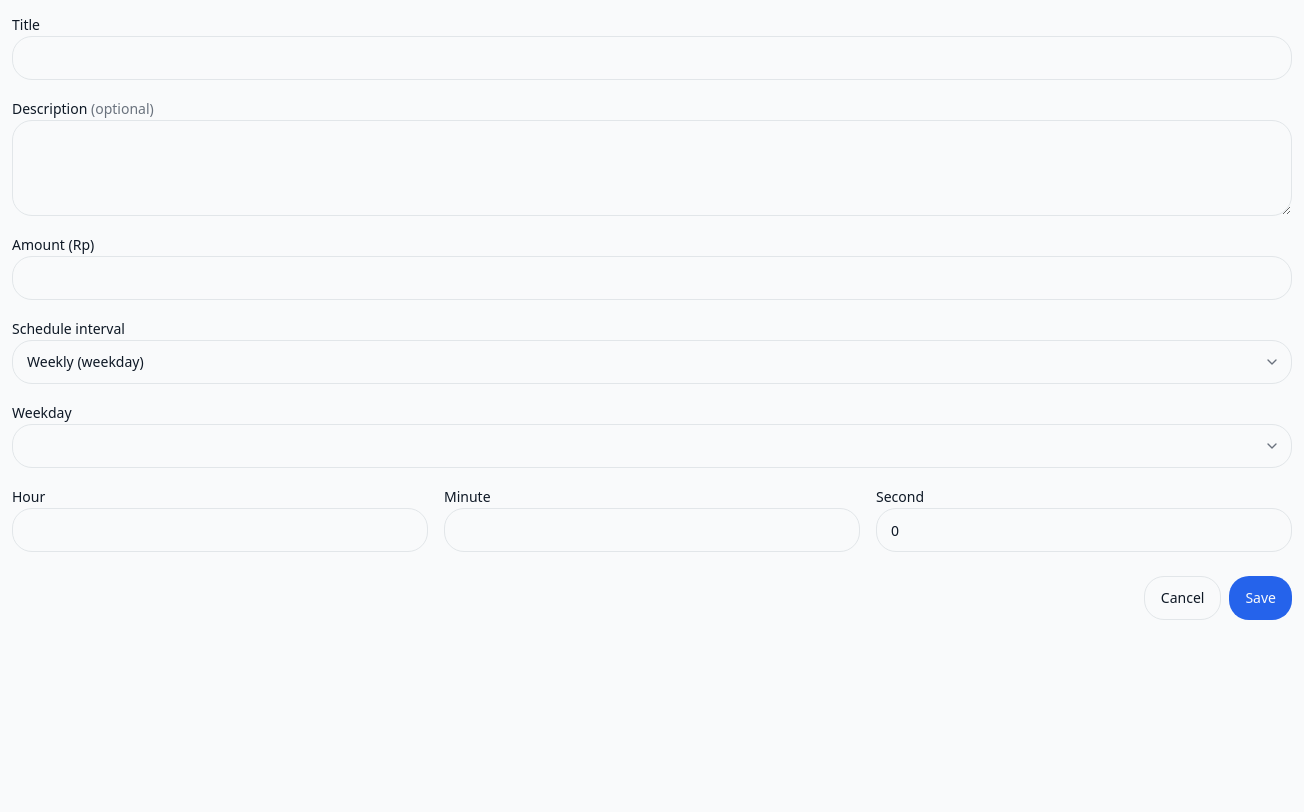
it: RecurringExpenseForm › hides value field for DAILY interval
The image size is (1304, 812).
Check: the element with test id "recurring-expense-value-field" is shown, box [12, 400, 1292, 468]
Select "Daily" in the dropdown labelled "Schedule interval": (652, 362) [12, 340, 1292, 384]
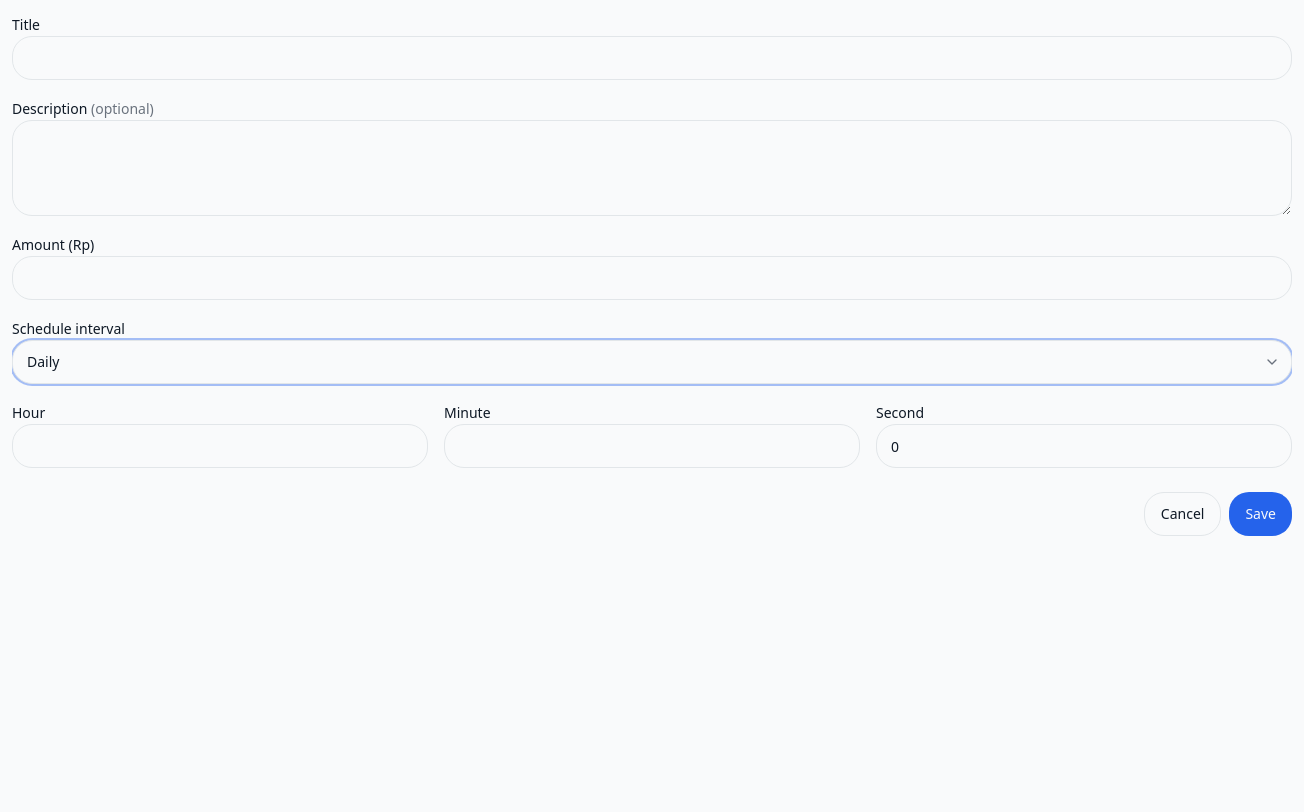
Check: the element with test id "recurring-expense-value-field" is gone
